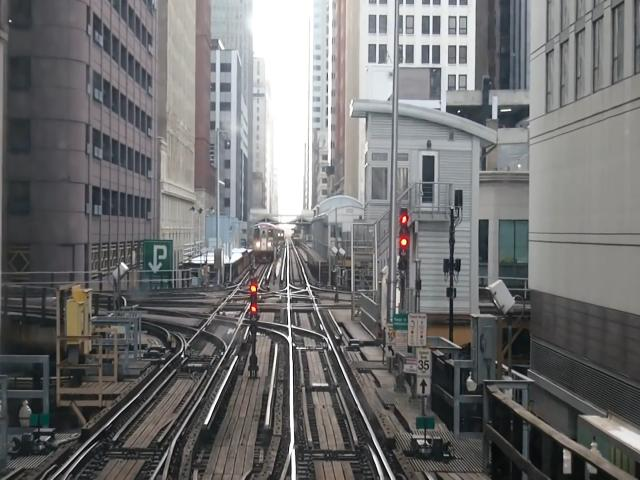signal light: (400, 208, 410, 278), (251, 279, 260, 335)
